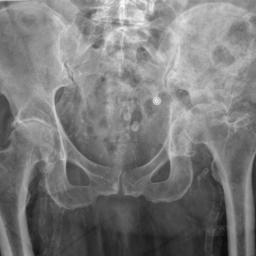cancer: (163, 4, 256, 138)
